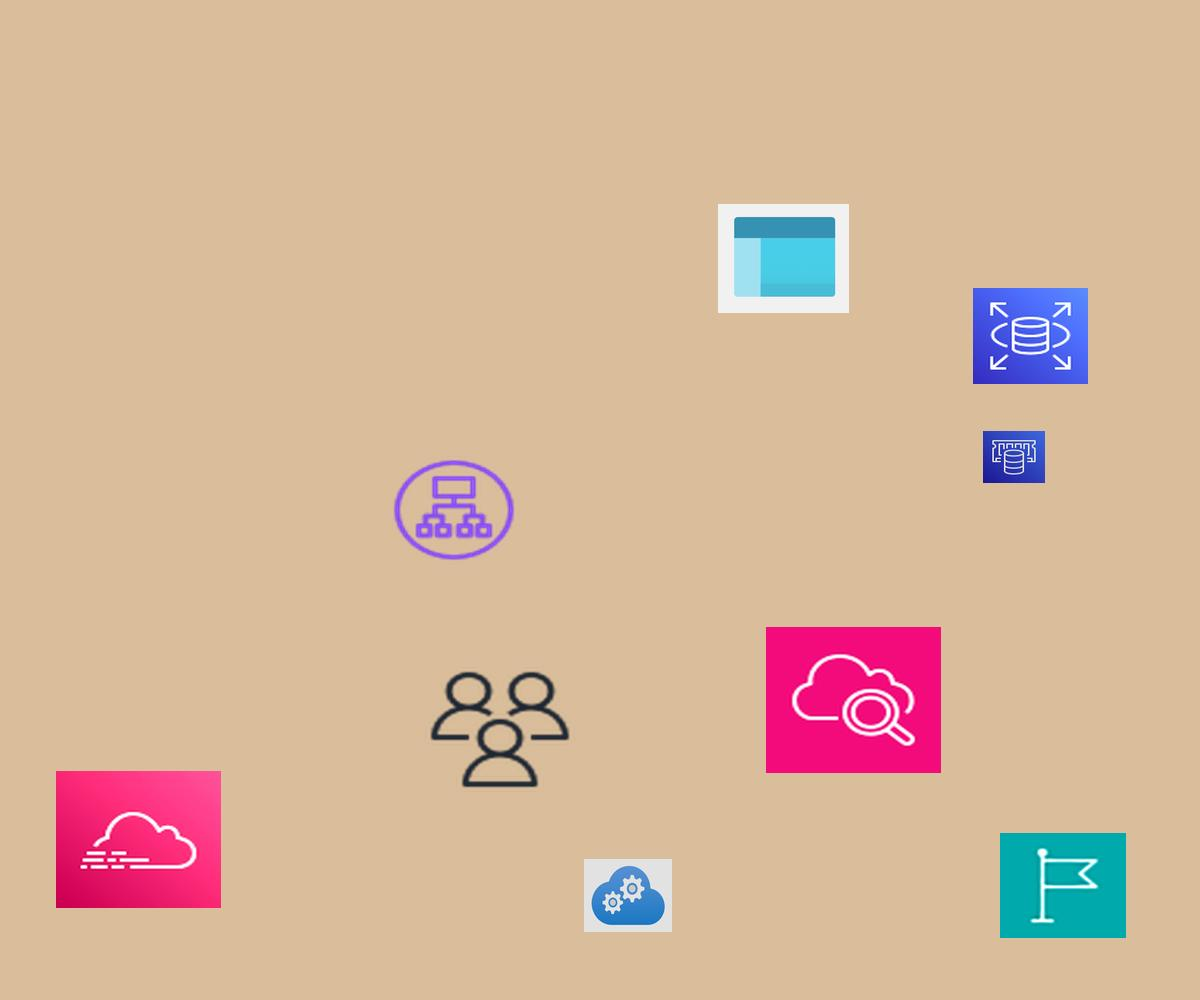AWS-CloudTrail: (56, 771, 221, 908)
AWS-CloudWatch: (766, 627, 941, 773)
AWS-ElastiCache: (983, 431, 1045, 483)
AWS-RDS: (973, 288, 1088, 384)
AWS-Region: (1000, 833, 1126, 938)
AWS-Res_Elastic-Load-Balancing_Application-Load-Balancer: (389, 456, 519, 564)
AWS-Res_Users: (425, 667, 575, 792)
Azure_cloud_services: (584, 859, 672, 932)
Azure_management-portal: (718, 204, 849, 313)
